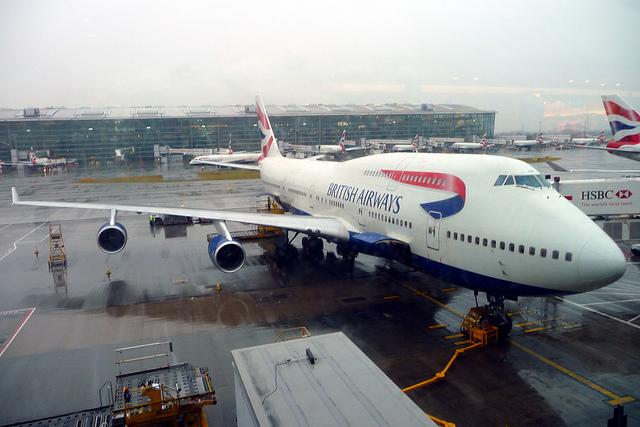airplane: (10, 91, 628, 341), (546, 92, 640, 180), (188, 146, 267, 172), (299, 128, 359, 157), (5, 146, 61, 176), (389, 133, 424, 153), (451, 134, 488, 152), (570, 129, 605, 148), (510, 133, 544, 152)
